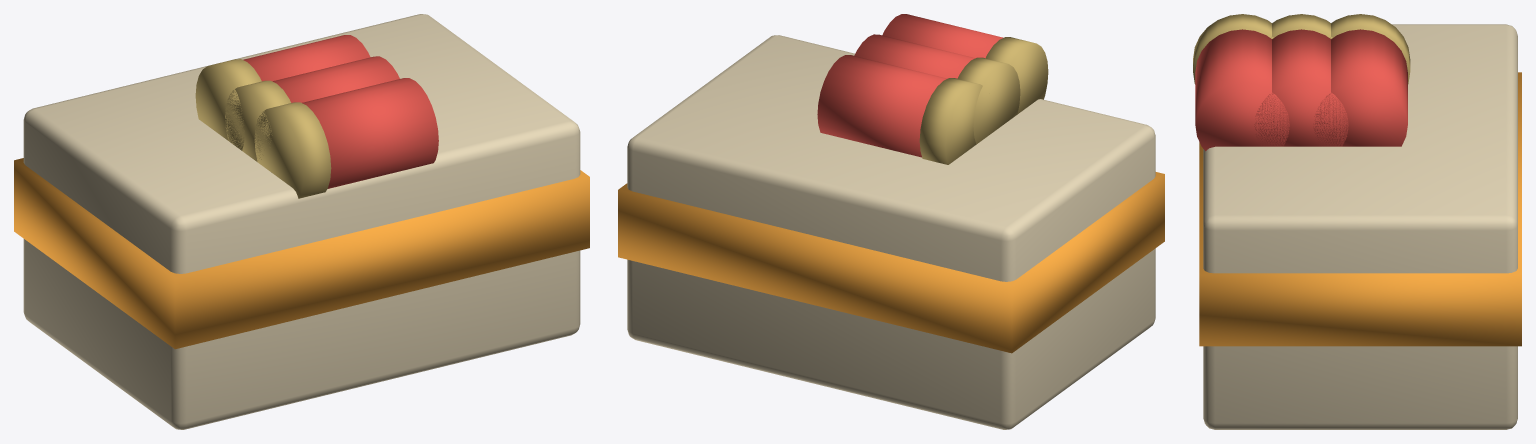
Rendered from SM_Ammo_flare.glb.
3 views of the same model, side by side, from view 1: azimuth 30°, elevation 25°; view 2: azimuth 150°, elevation 25°; view 3: azimuth 270°, elevation 25° (orthographic). The views are drawn at different scales.
Parts seen in each view (by area): view 1: SM_Ammo_flare; view 2: SM_Ammo_flare; view 3: SM_Ammo_flare.
Part boxes in pixels (x1,y1,x2,y2): SM_Ammo_flare: (14, 14, 589, 429); SM_Ammo_flare: (618, 14, 1164, 429); SM_Ammo_flare: (1193, 14, 1521, 429).
Bounding box in the file's own units: 0.122 × 0.0786 × 0.0836.
